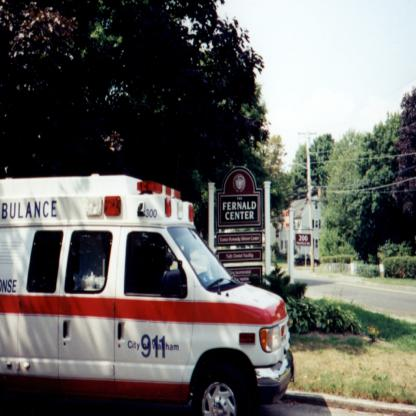Ambulance: (0, 171, 296, 416)
